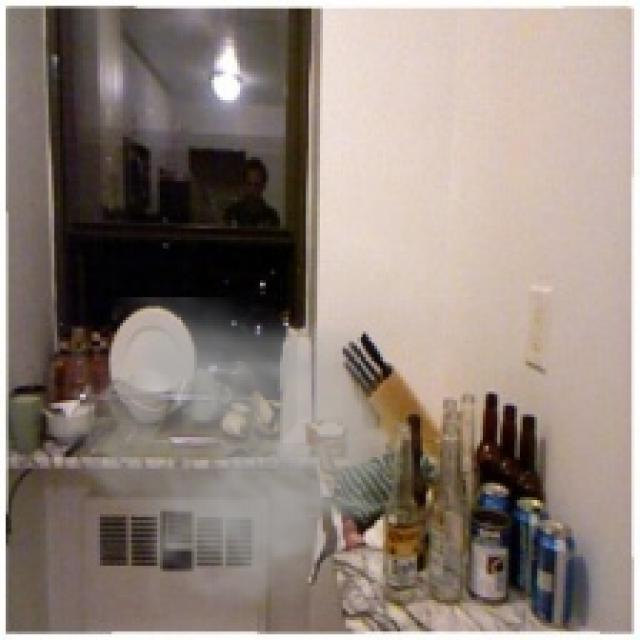smoke: (49, 297, 437, 637)
